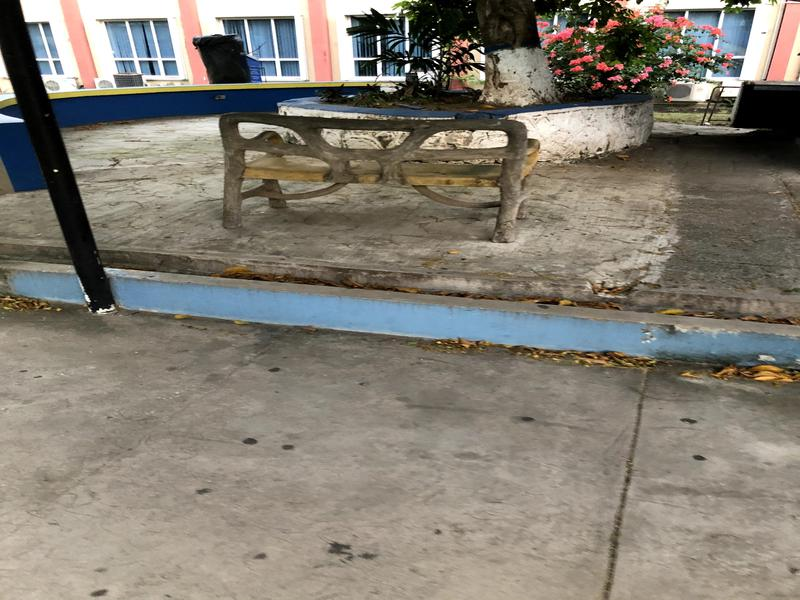18.0050864_-76.7496363_bench: (202, 97, 561, 255)
